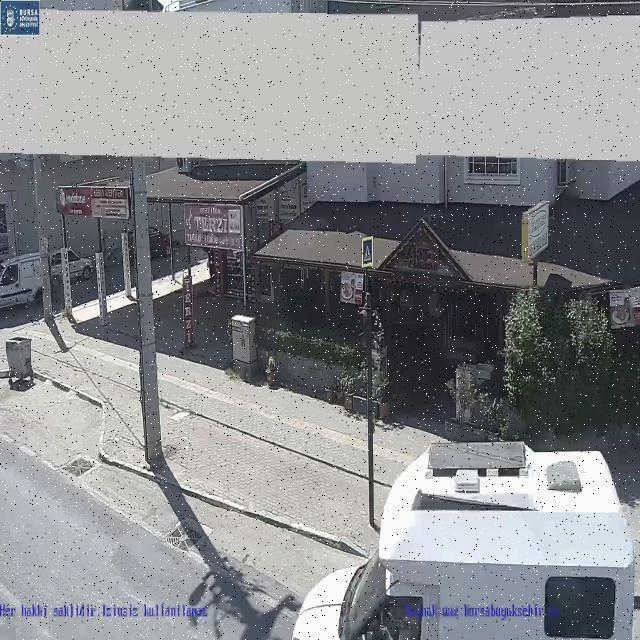Car: (48, 247, 95, 289)
Van: (292, 441, 636, 640), (0, 250, 39, 310)
